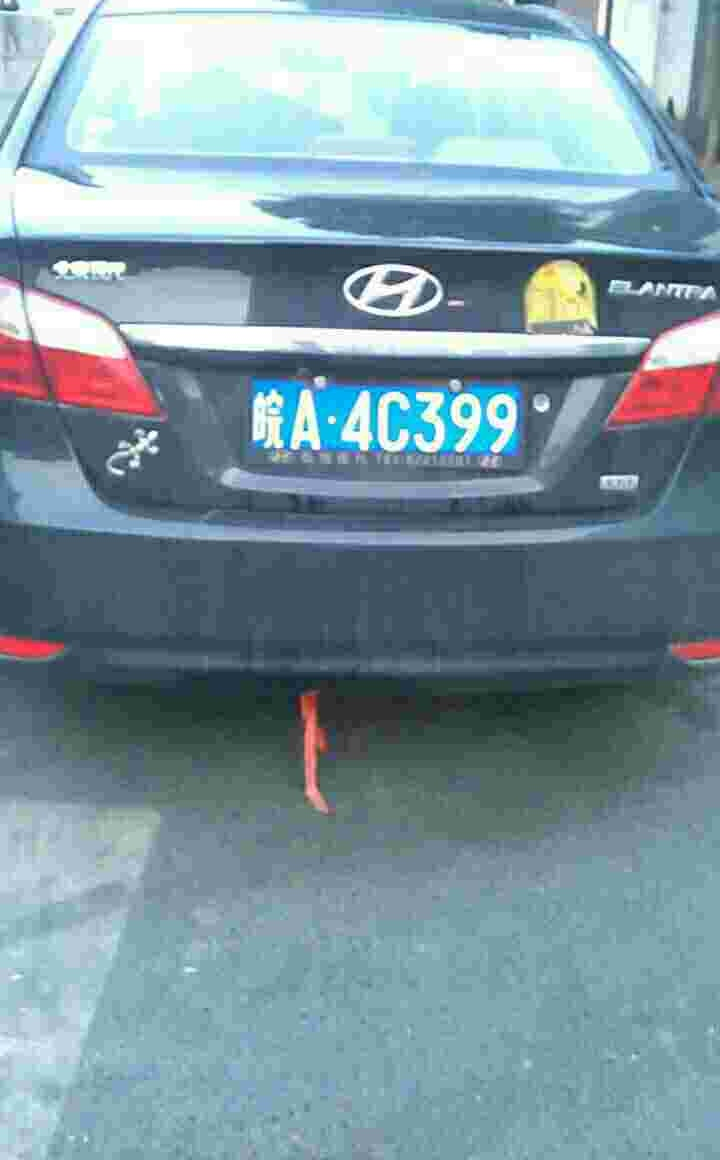plate: (247, 373, 534, 469)
